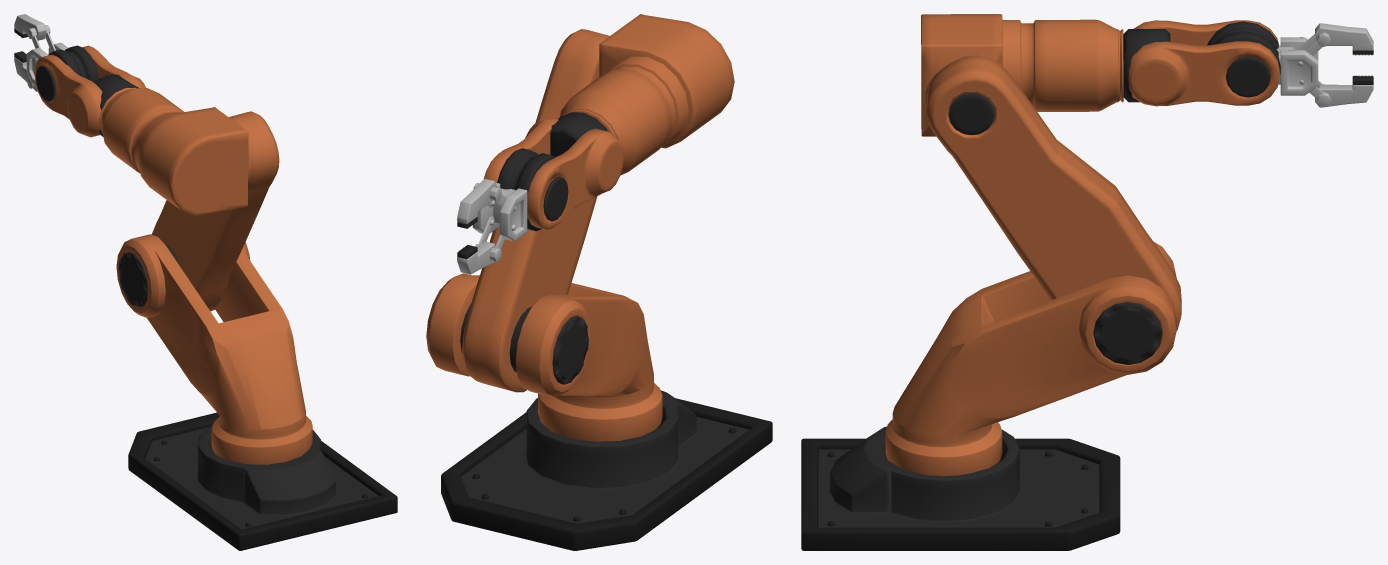
File: arm_robot.fbx
The picture shows the model from 3 angles, left to right: view 1: azimuth 30°, elevation 25°; view 2: azimuth 150°, elevation 25°; view 3: azimuth 270°, elevation 25°; orthographic projection. The views are drawn at different scales.
Visible parts, largest first — view 1: Cylinder.003, Cylinder.014, Cylinder.005, Cube.003, Cylinder.010, Cylinder.016, Cylinder.004, Cylinder.015, Cylinder.018, Cylinder.017, Cube.010, Cube.008; view 2: Cylinder.003, Cylinder.005, Cylinder.014, Cube.003, Cylinder.010, Cylinder.016, Cylinder.004, Cube.008, Cylinder.015, Cylinder.018, Cube.010, Cylinder.017 (+2 smaller); view 3: Cylinder.003, Cube.003, Cylinder.005, Cylinder.014, Cylinder.010, Cylinder.016, Cylinder.004, Cube.008, Cylinder.013, Cylinder.017, Cylinder.015, Cylinder.018 (+2 smaller).
Boxes of the visible parts, <box> form: Cylinder.003: <box>116,234,312,464</box>; Cylinder.014: <box>99,87,250,216</box>; Cylinder.005: <box>145,426,378,529</box>; Cube.003: <box>151,111,279,311</box>; Cylinder.010: <box>128,412,397,550</box>; Cylinder.016: <box>34,45,145,137</box>; Cylinder.004: <box>118,244,180,307</box>; Cylinder.015: <box>48,45,98,82</box>; Cylinder.018: <box>94,74,138,136</box>; Cylinder.017: <box>36,65,55,101</box>; Cube.010: <box>14,14,46,40</box>; Cube.008: <box>26,42,68,86</box>; Cylinder.003: <box>426,273,662,441</box>; Cylinder.005: <box>460,390,749,523</box>; Cylinder.014: <box>559,14,734,175</box>; Cube.003: <box>462,29,609,392</box>; Cylinder.010: <box>441,398,772,550</box>; Cylinder.016: <box>484,117,623,229</box>; Cylinder.004: <box>460,303,588,384</box>; Cube.008: <box>472,182,527,241</box>; Cylinder.015: <box>497,148,554,231</box>; Cylinder.018: <box>550,112,608,157</box>; Cube.010: <box>457,179,496,224</box>; Cylinder.017: <box>543,176,568,221</box>; Cylinder.003: <box>885,241,1176,476</box>; Cube.003: <box>926,55,1181,330</box>; Cylinder.005: <box>817,426,1099,527</box>; Cylinder.014: <box>921,14,1123,136</box>; Cylinder.010: <box>801,438,1120,550</box>; Cylinder.016: <box>1128,20,1279,106</box>; Cylinder.004: <box>1093,302,1162,364</box>; Cube.008: <box>1280,37,1318,95</box>; Cylinder.013: <box>948,93,994,134</box>; Cylinder.017: <box>1226,56,1270,97</box>; Cylinder.015: <box>1207,21,1280,74</box>; Cylinder.018: <box>1123,29,1170,102</box>.
Size of the model in its own units: 394 by 791 by 911.
